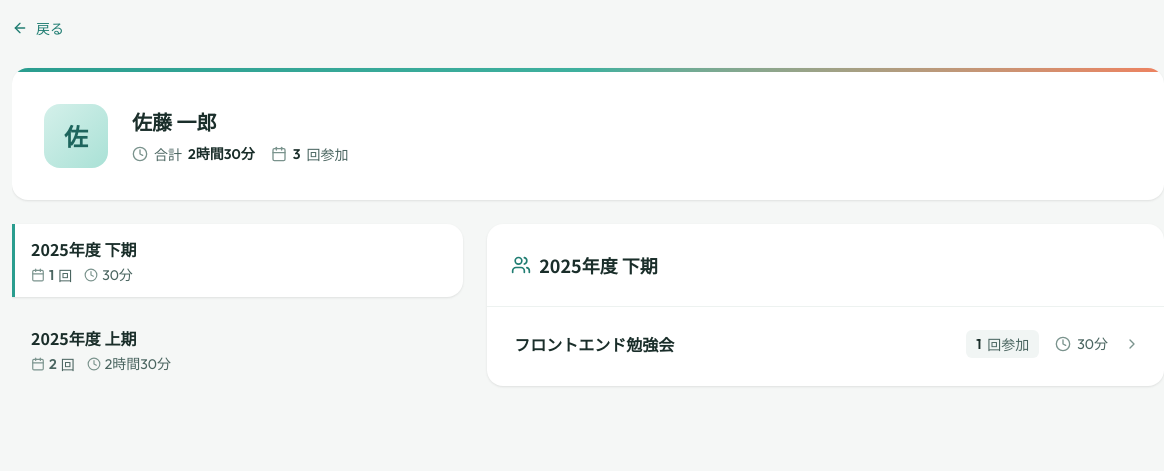
it: MemberDetailPage › 期別表示 › 期を切り替えるとその期のセッションが表示されること
Expected: the heading "佐藤 一郎" is shown, x1=132 y1=107 x2=216 y2=136
Note: 上期ボタンをクリック
What coordinates should you click on to do the following:
click the button "2025年度 上期 2 回 2時間30分"
I would click on:
 (84, 338)
Its box is x1=12 y1=313 x2=463 y2=386.
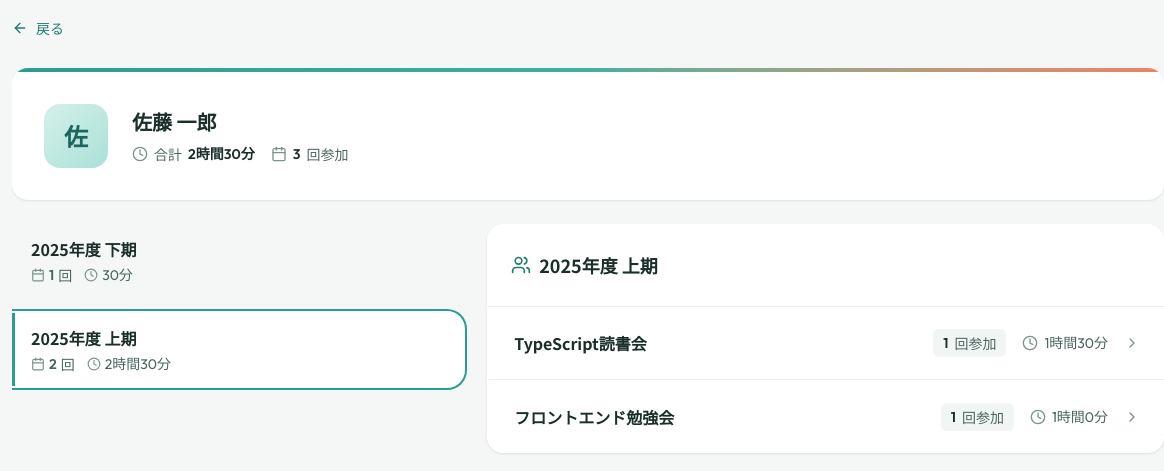
Expected: the heading "TypeScript読書会" is shown, x1=514 y1=331 x2=647 y2=355
